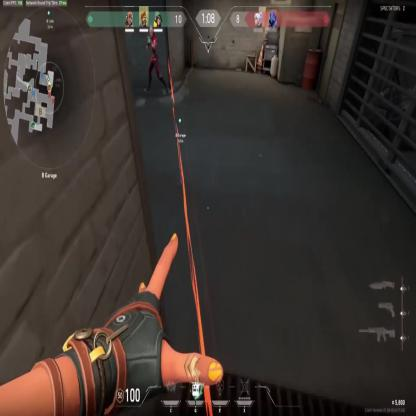enemy: (143, 26, 170, 97)
enemy_head: (149, 27, 154, 39)
